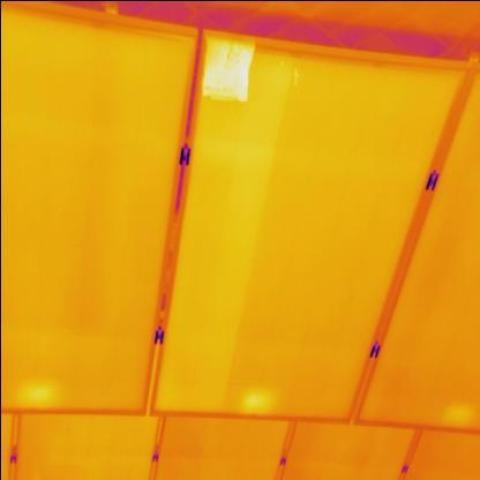fault: (204, 40, 248, 97), (22, 382, 53, 406), (238, 393, 270, 413)
